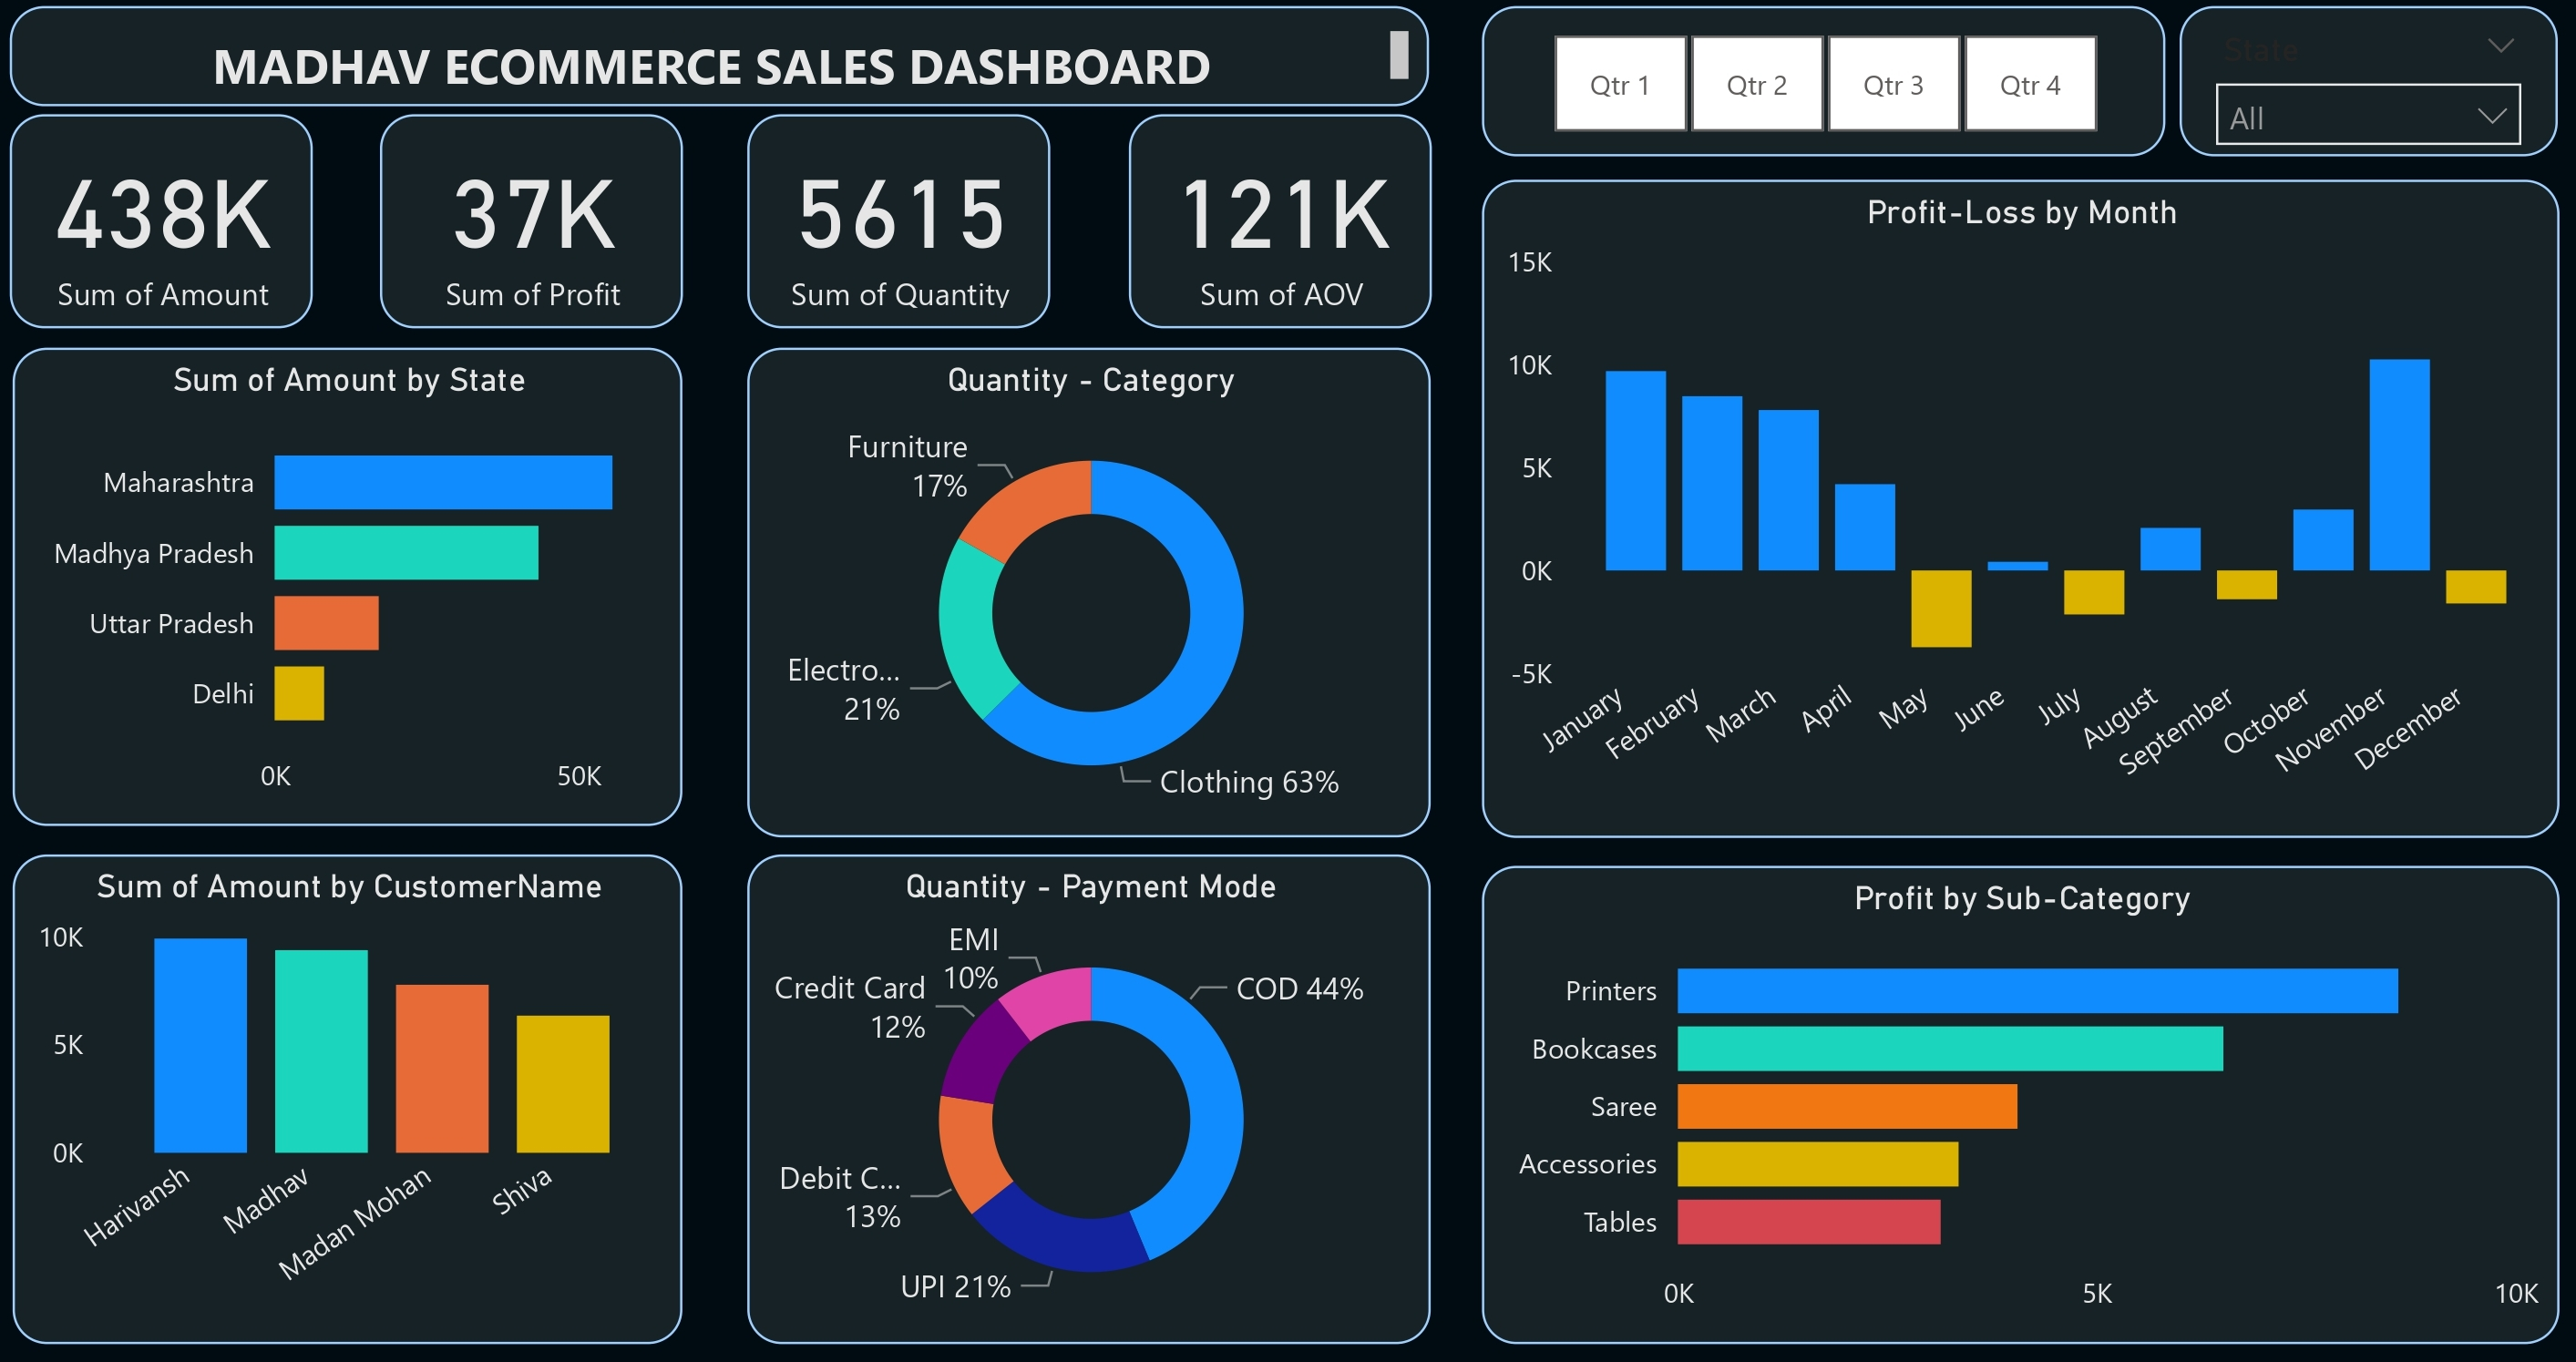

Layout of this report page (visuals, bound fields, positions):
{"tool":"powerbi","page":{"name":"Page 1","canvas":[1280,720],"ordinal":0},"visuals":[{"type":"textbox","box":[7.5,6.2,622.5,43.8],"z":0},{"type":"columnChart","title":"Profit-Loss by Month","fields":{"Y":["Details.Profit"],"Category":["Orders.Order Date.Variation.Date Hierarchy.Month"]},"box":[653.8,82.5,472.5,288.8],"z":1},{"type":"barChart","title":"Profit by Sub-Category","fields":{"Category":["Details.Sub-Category"],"Y":["Details.Profit"]},"box":[653.8,383.8,472.5,210],"z":2},{"type":"donutChart","title":"Quantity - Category","fields":{"Category":["Details.Category"],"Y":["Details.Quantity"]},"box":[331.2,156.2,300,215],"z":4},{"type":"donutChart","title":"Quantity - Payment Mode","fields":{"Category":["Details.PaymentMode","Details.Category"],"Y":["Details.Quantity"]},"box":[331.2,378.8,300,215],"z":5},{"type":"card","fields":{"Values":["Details.Amount"]},"box":[7.5,53.8,132.5,93.8],"z":6},{"type":"card","fields":{"Values":["Details.Profit"]},"box":[170,53.8,132.5,93.8],"z":7},{"type":"card","fields":{"Values":["Details.Quantity"]},"box":[331.2,53.8,132.5,93.8],"z":8},{"type":"card","fields":{"Values":["Details.AOV"]},"box":[498.8,53.8,132.5,93.8],"z":9},{"type":"barChart","title":"Sum of Amount by State","fields":{"Category":["Orders.State"],"Y":["Details.Amount"]},"box":[8.8,156.2,293.8,210],"z":12},{"type":"columnChart","fields":{"Category":["Orders.CustomerName"],"Y":["Details.Amount"]},"box":[9,379,294,215],"z":13},{"type":"slicer","fields":{"Values":["Orders.Order Date.Variation.Date Hierarchy.Quarter"]},"box":[653.8,6.2,300,66.2],"z":16},{"type":"slicer","fields":{"Values":["Orders.State"]},"box":[960,6.2,166.2,66.2],"z":17}]}

Visuals, with their boxes on the page's 1280x720 design canvas (x1, y1, x2, y2). These are canvas units, not pixel positions in the 2576x1362 screenshot, which may show the page scaled, cropped or inside an application window:
textbox: bbox=[8, 6, 630, 50]
"Profit-Loss by Month" columnChart: bbox=[654, 82, 1126, 371]
"Profit by Sub-Category" barChart: bbox=[654, 384, 1126, 594]
"Quantity - Category" donutChart: bbox=[331, 156, 631, 371]
"Quantity - Payment Mode" donutChart: bbox=[331, 379, 631, 594]
card - Details.Amount: bbox=[8, 54, 140, 148]
card - Details.Profit: bbox=[170, 54, 302, 148]
card - Details.Quantity: bbox=[331, 54, 464, 148]
card - Details.AOV: bbox=[499, 54, 631, 148]
"Sum of Amount by State" barChart: bbox=[9, 156, 303, 366]
columnChart - Orders.CustomerName x Details.Amount: bbox=[9, 379, 303, 594]
slicer - Orders.Order Date.Variation.Date Hierarchy.Quarter: bbox=[654, 6, 954, 72]
slicer - Orders.State: bbox=[960, 6, 1126, 72]
